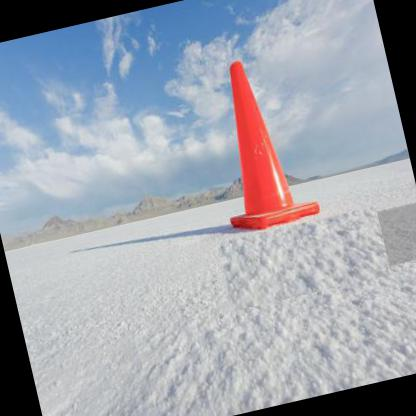cone: (196, 52, 320, 235)
